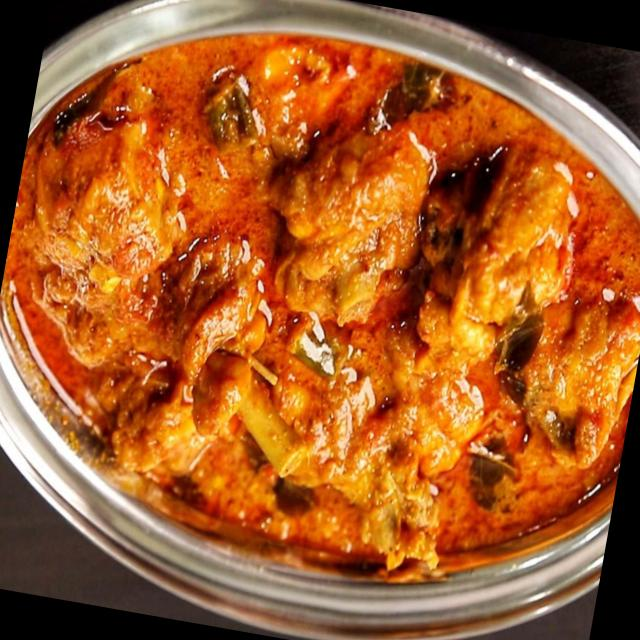chicken: (10, 6, 640, 579)
